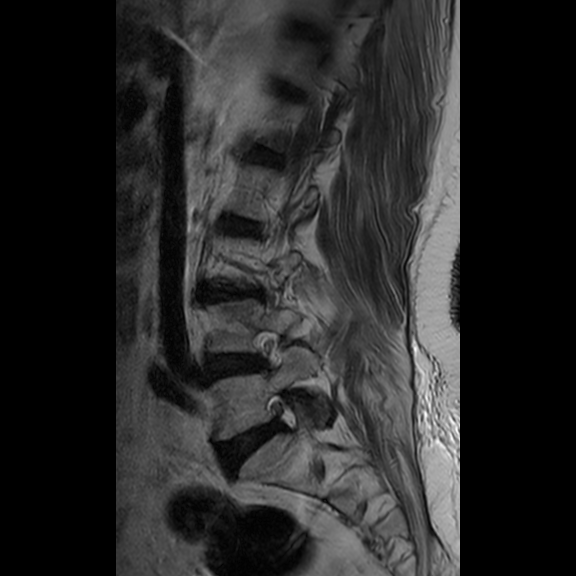RFS0: (255, 380, 306, 442), (241, 319, 289, 379)
